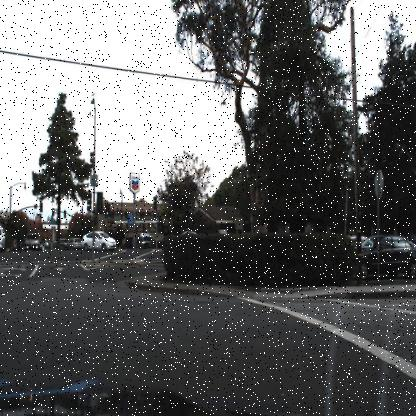car: (353, 232, 415, 282), (343, 233, 379, 260), (80, 228, 118, 252), (81, 230, 118, 252), (23, 230, 43, 253)
